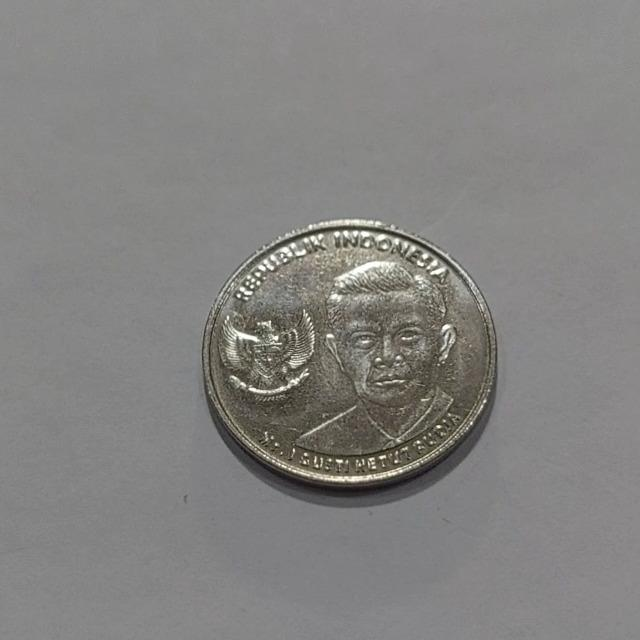Rp100: (201, 217, 498, 491), (289, 257, 462, 459)
